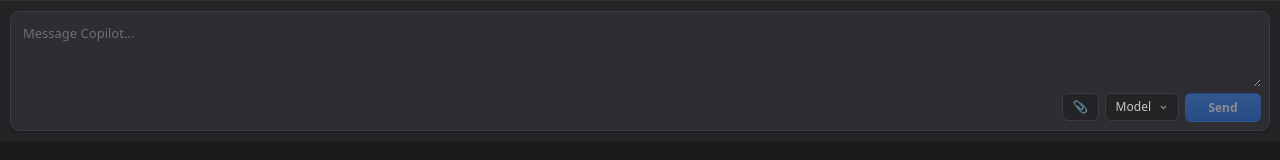
Test: Composer › falls back to the model id as the label in More models
Click the button "Model".
click(1142, 107)  # box [1105, 93, 1179, 121]
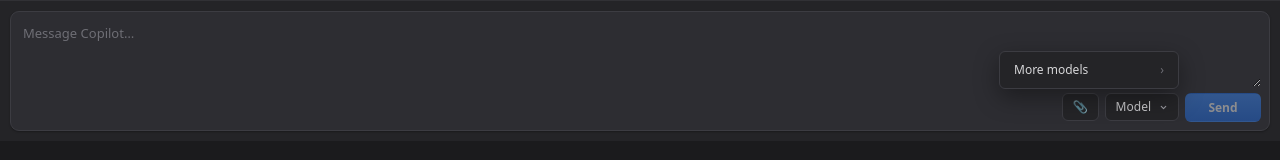
Click the menu item "More models ›".
click(1089, 70)  # box [1004, 56, 1174, 84]
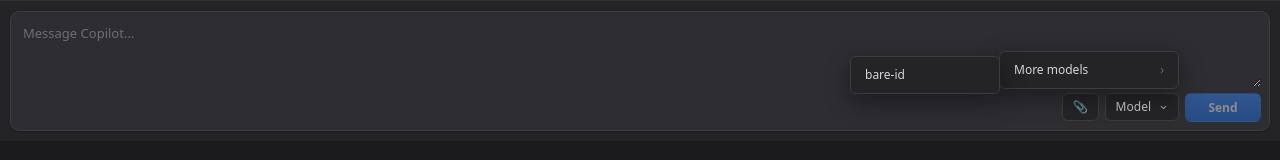
Expected: the menu item "bare-id" is shown, [855, 61, 995, 89]
